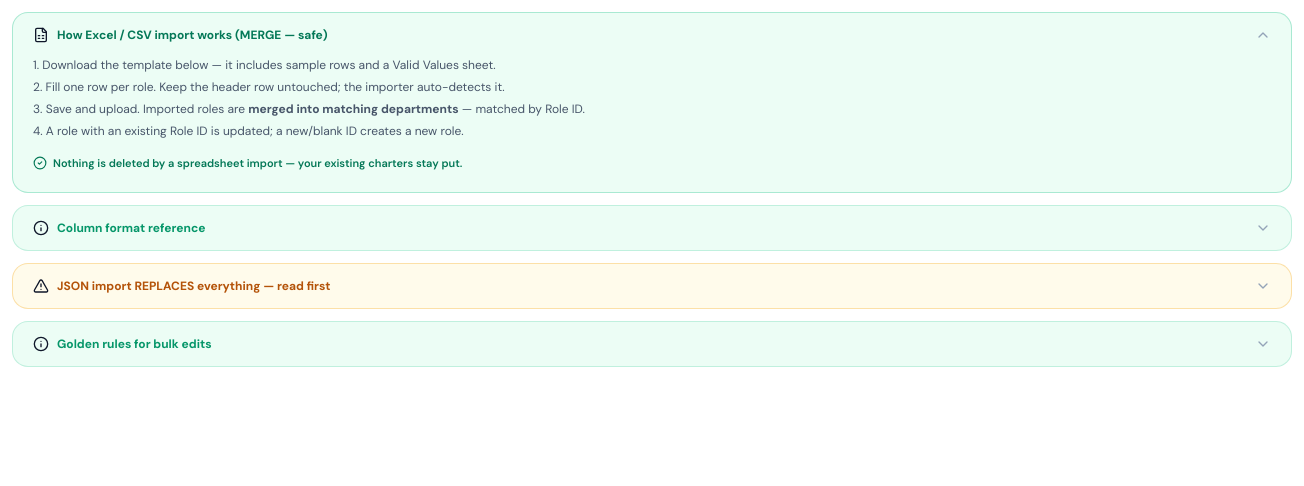
it: ImportGuide › keeps the JSON replace warning collapsed until clicked
Click the button "JSON import REPLACES everything — read first": {"x": 194, "y": 286} [13, 264, 1291, 308]
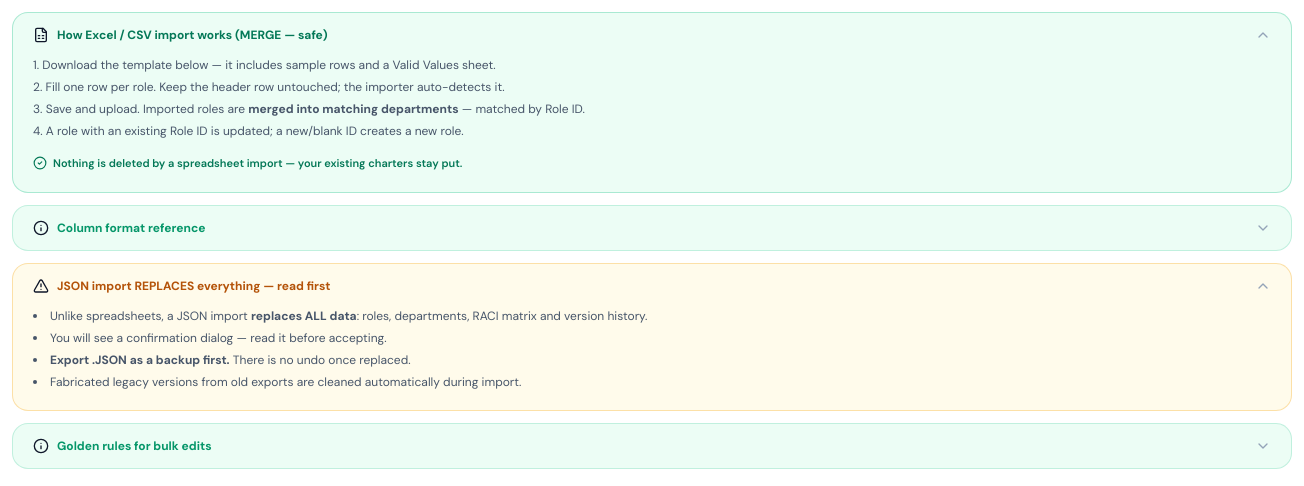
Result: the button "JSON import REPLACES everything — read first" is expanded at [13, 264, 1291, 308]
Result: the text "replaces ALL data" is shown at [251, 308, 357, 324]
